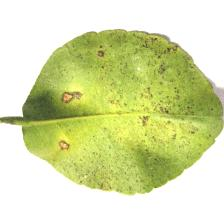canker: (34, 37, 212, 138)
